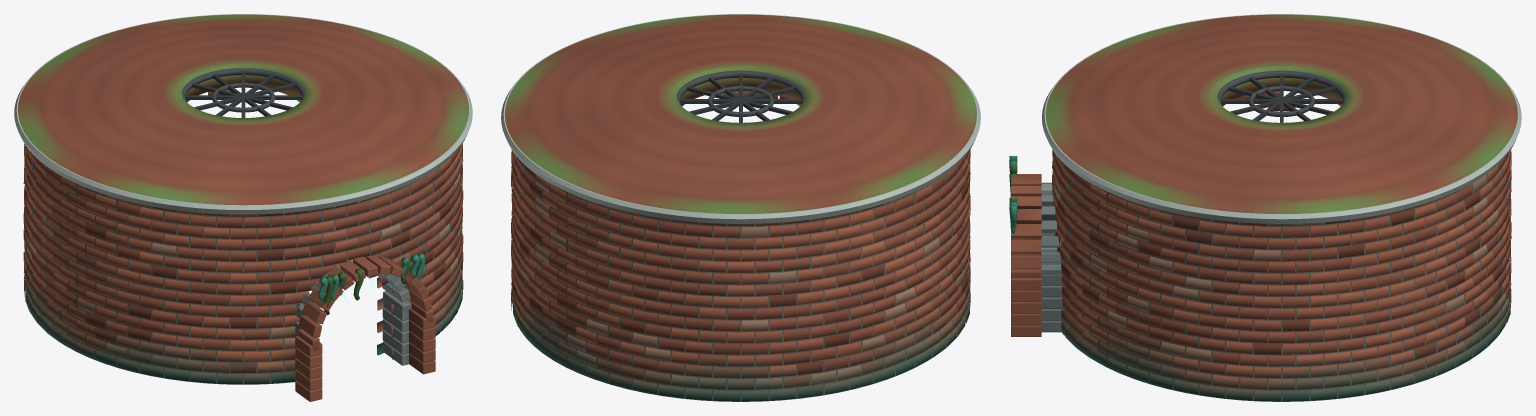
File: grotto_drain_dome.glb
3 renders of one model, left to right at view 1: azimuth 30°, elevation 25°; view 2: azimuth 150°, elevation 25°; view 3: azimuth 270°, elevation 25°, orthographic. The views are drawn at different scales.
Visible parts, largest first — view 1: grotto_drain_dome; view 2: grotto_drain_dome; view 3: grotto_drain_dome.
Boxes of the visible parts, x1,y1,x2,y2 form: grotto_drain_dome: (14, 14, 472, 401); grotto_drain_dome: (501, 14, 980, 401); grotto_drain_dome: (1009, 14, 1521, 401).
Bounding box in the file's own units: 37.2 × 17.95 × 39.73.
